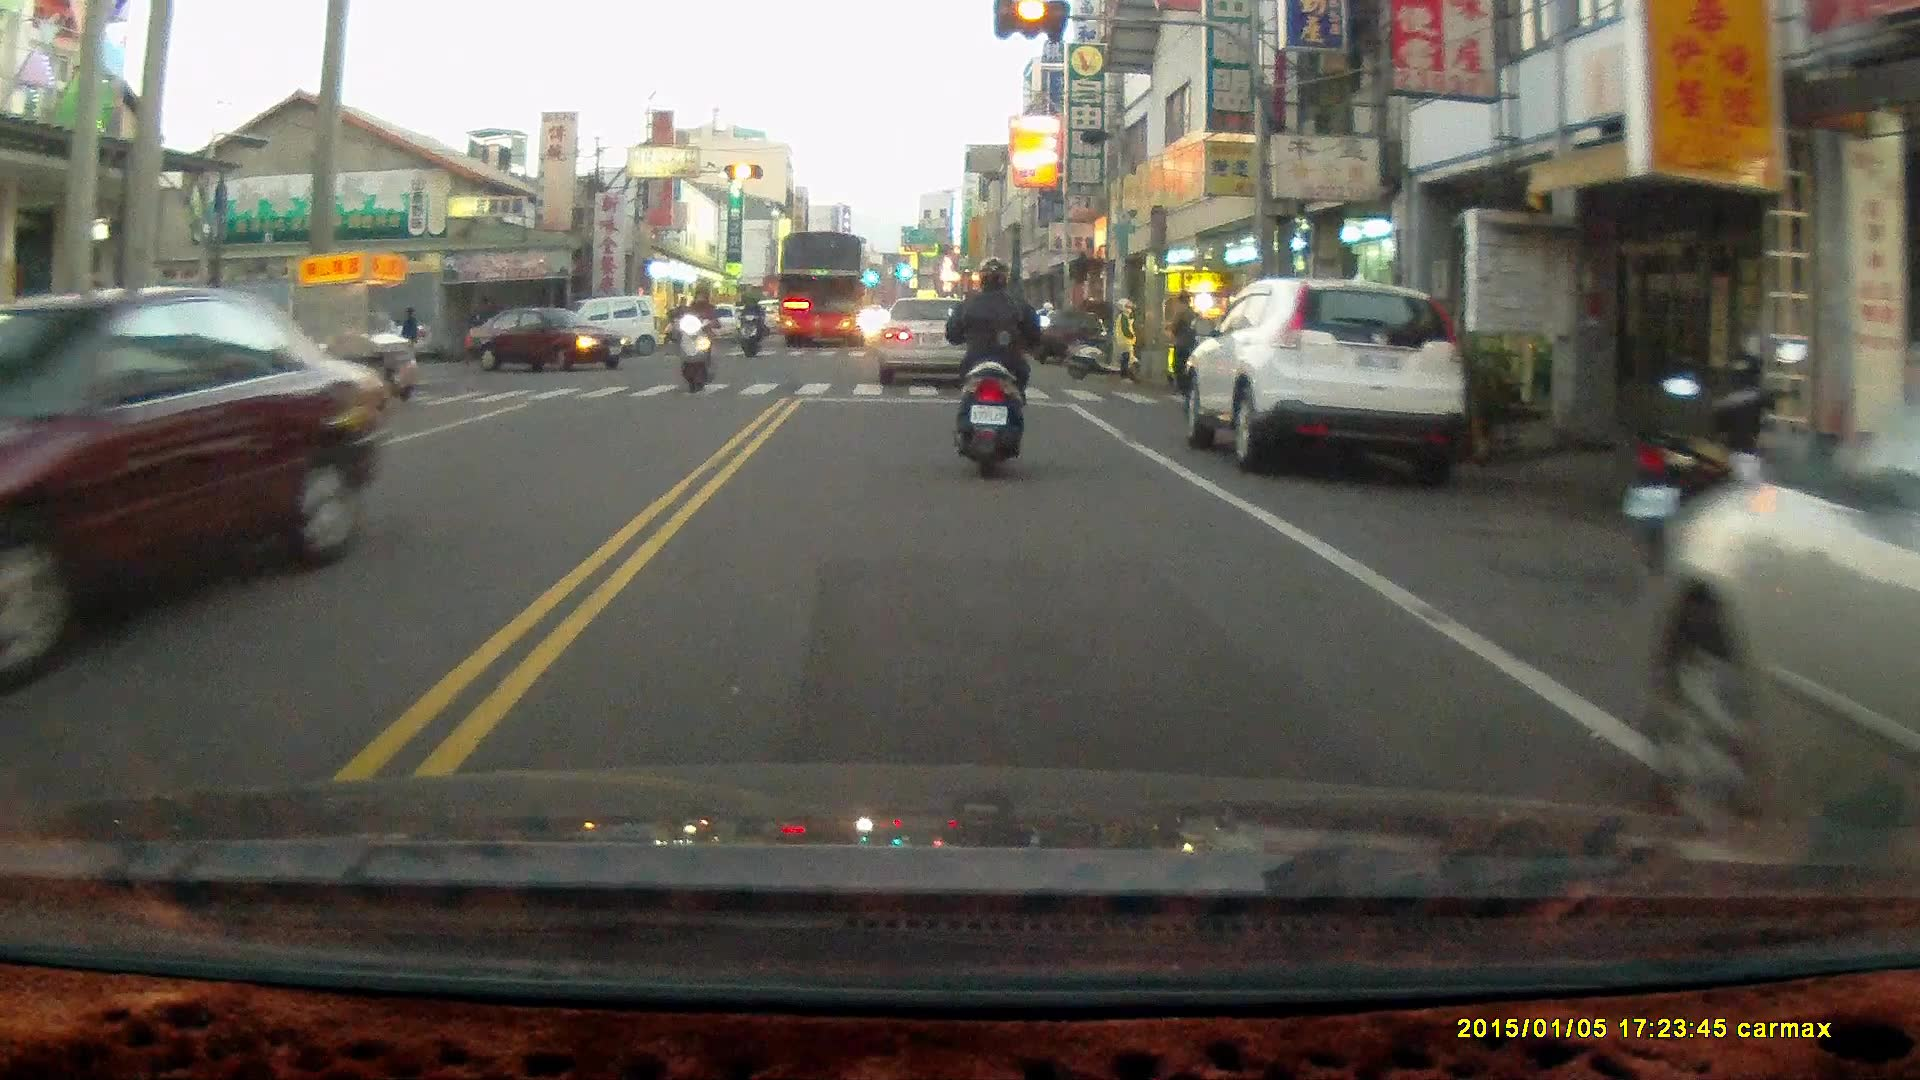pedestrian: (1168, 289, 1199, 392), (1112, 296, 1144, 384), (398, 303, 420, 364)
rider: (944, 254, 1041, 480), (674, 281, 720, 396), (658, 293, 691, 357), (738, 288, 761, 355)
vehicle: (1, 284, 384, 680), (1638, 361, 1920, 836), (1185, 277, 1470, 474), (769, 232, 871, 347), (475, 305, 625, 379), (876, 296, 986, 386)
